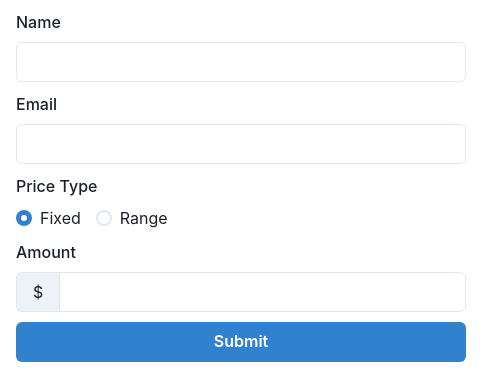
Test case: Has fields that are shown conditionally
Note: Test that the fixed amount input is shown when the fixed type is selected
Click the element with test id "fixed-type".
click(24, 218)  # box x1=16 y1=210 x2=32 y2=226
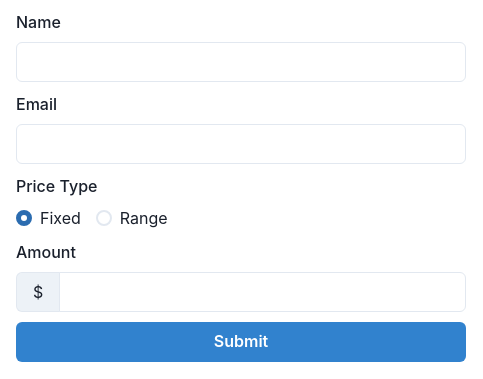
Check: the number field with test id "fixed-amount" is shown, box x1=59 y1=272 x2=466 y2=312
Click the element with test id "range-type".
click(104, 218)  # box x1=96 y1=210 x2=112 y2=226
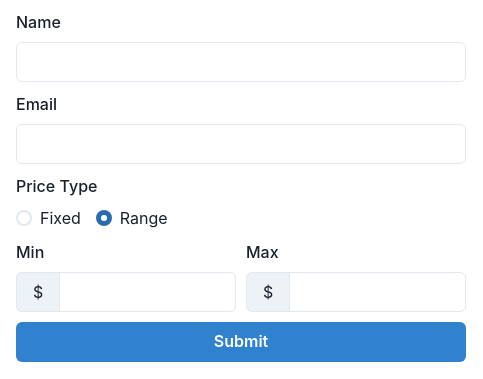
Check: the number field with test id "fixed-amount" is gone
Check: the number field with test id "min-amount" is shown, box x1=59 y1=272 x2=236 y2=312
Check: the number field with test id "max-amount" is shown, box x1=289 y1=272 x2=466 y2=312
